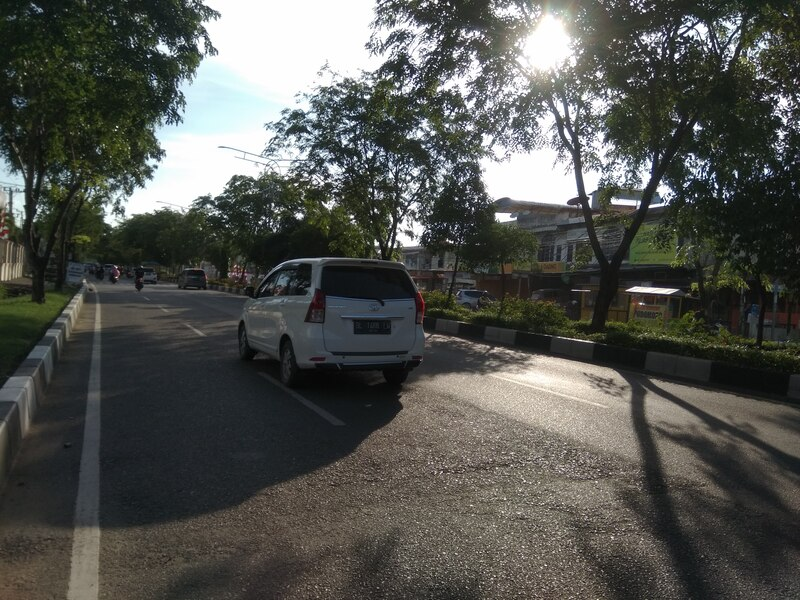car: (236, 249, 429, 394), (178, 268, 209, 292)
